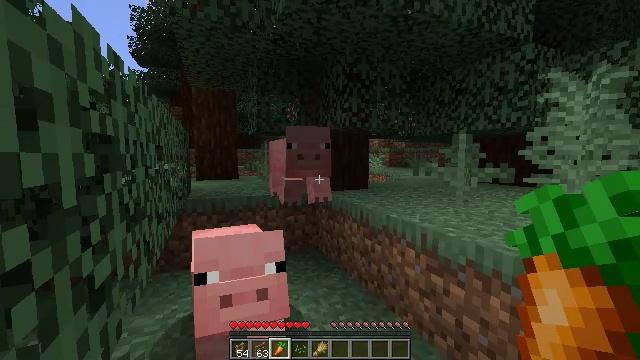pig: (191, 223, 292, 335), (267, 126, 332, 202)
